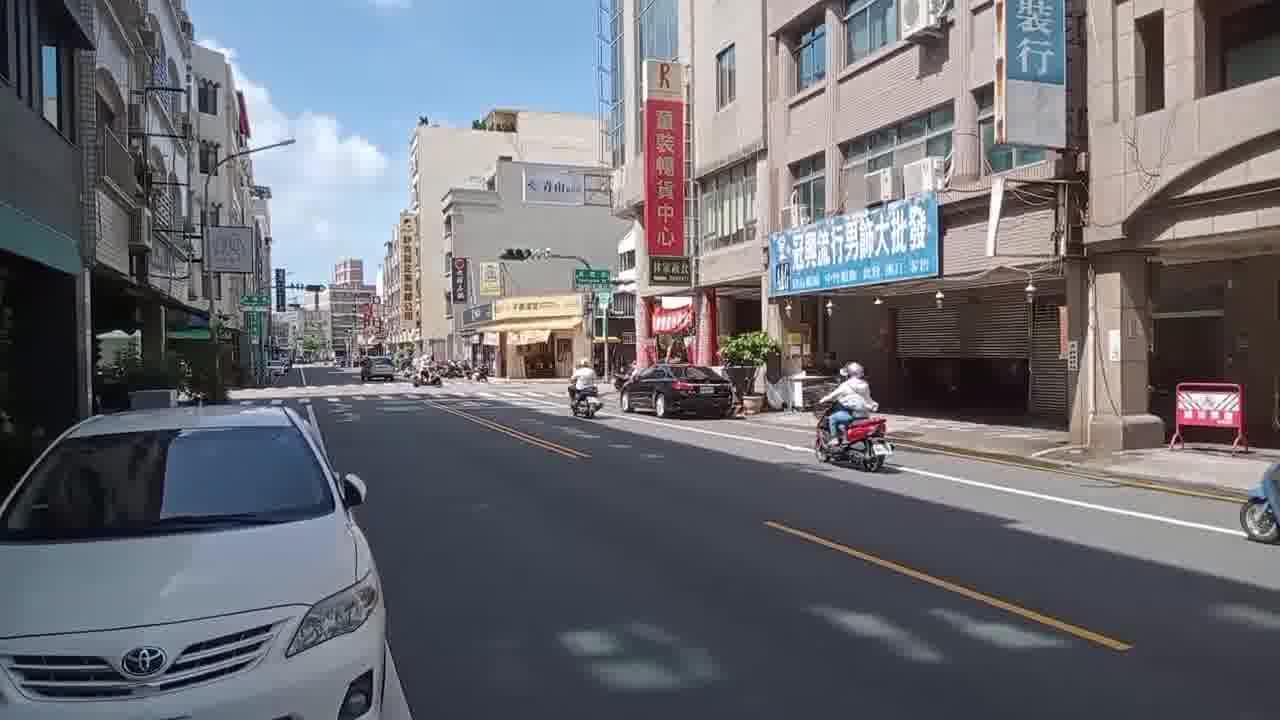driver: (806, 355, 904, 478)
